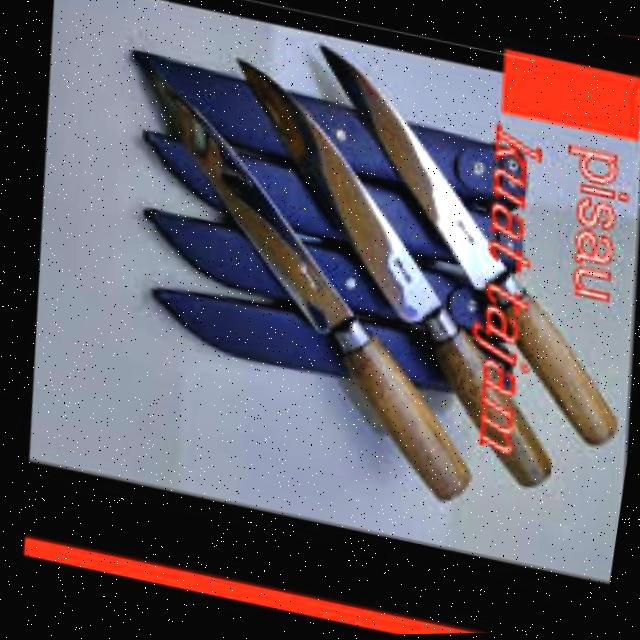knife: (179, 58, 607, 497), (104, 84, 524, 513), (259, 41, 640, 453)
